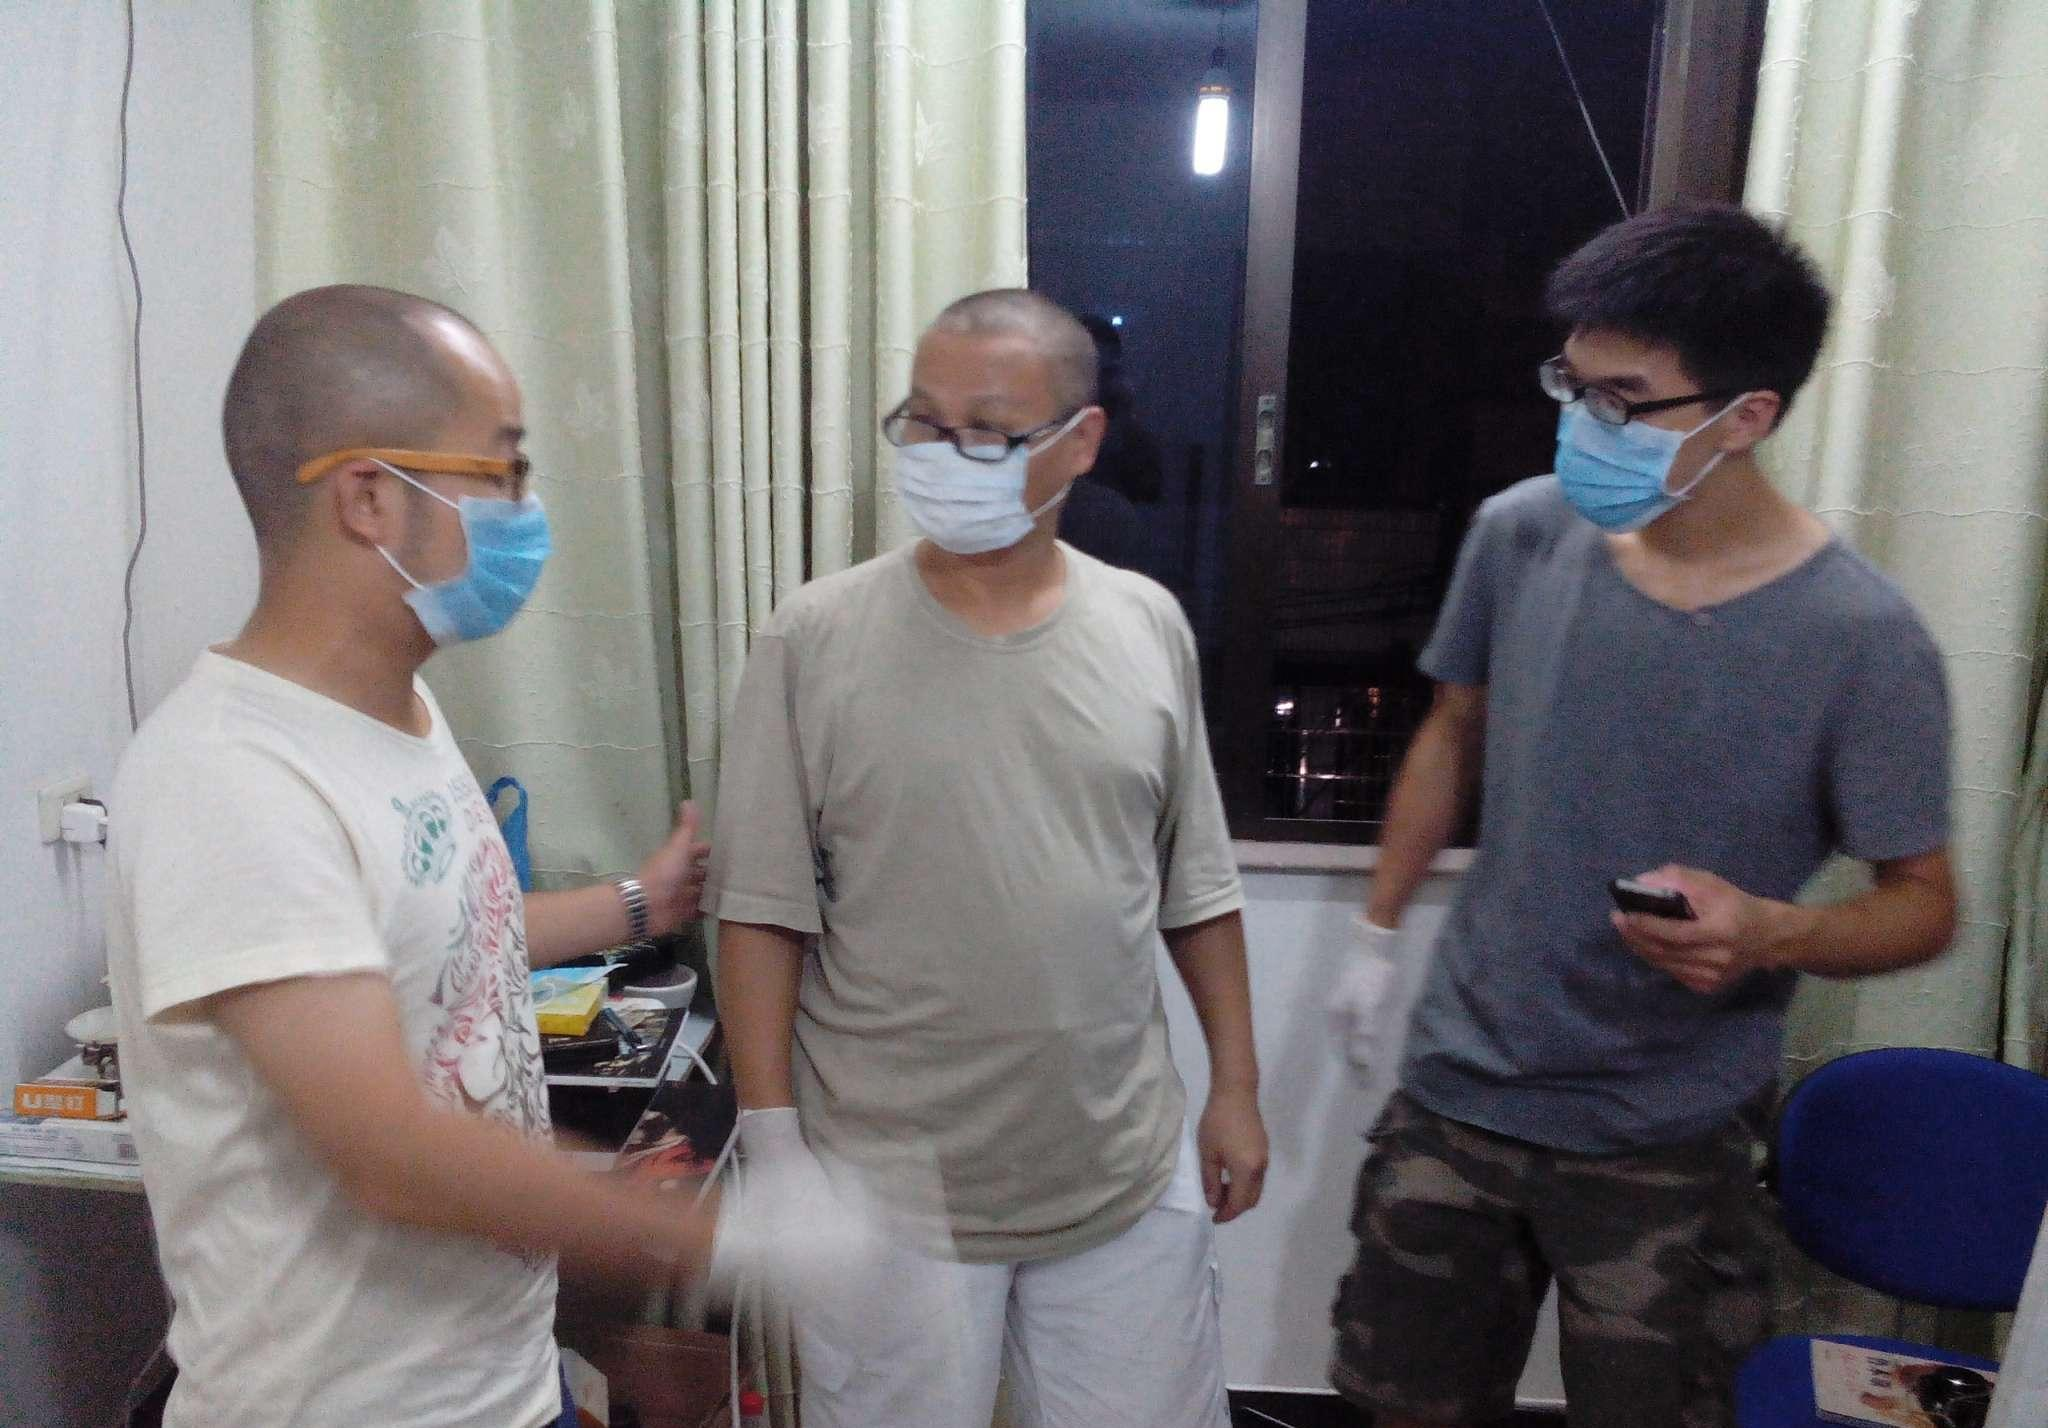face_mask: (395, 377, 548, 647), (889, 334, 1064, 557), (1556, 322, 1699, 533)
